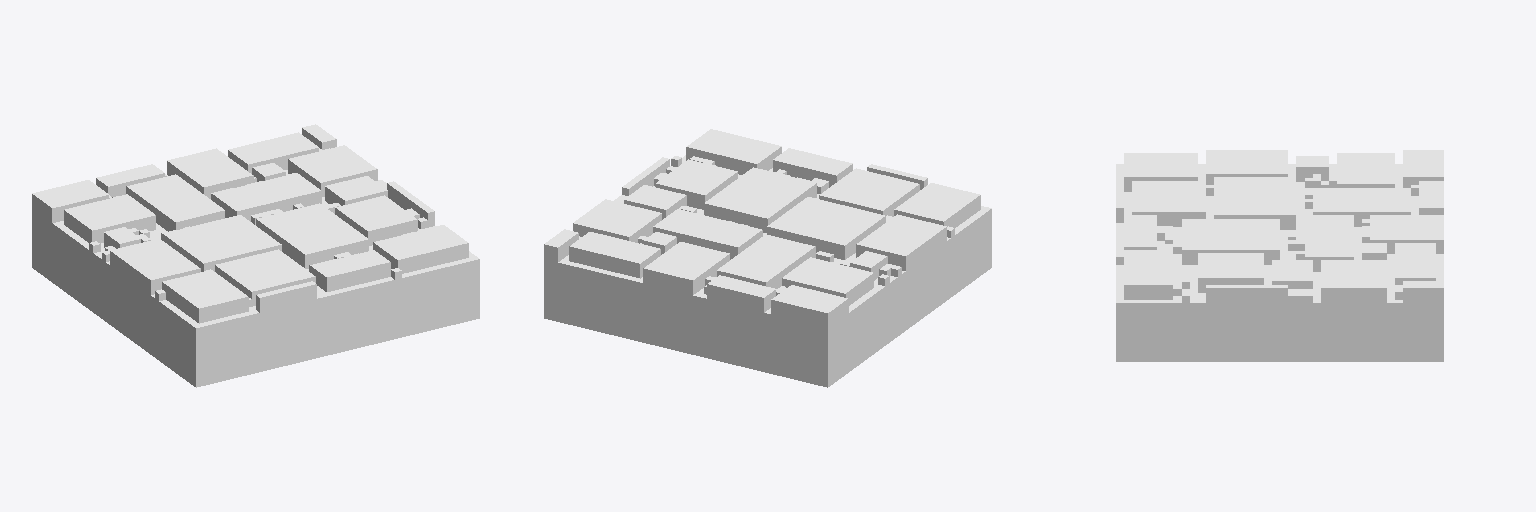
File: Floortile.obj
3 renders of one model, left to right at view 1: azimuth 30°, elevation 25°; view 2: azimuth 150°, elevation 25°; view 3: azimuth 270°, elevation 25°, orthographic.
Visible parts, largest first — view 1: object 1; view 2: object 1; view 3: object 1.
Part boxes in pixels (x1,y1,x2,y2): object 1: (32,124,479,387); object 1: (544,129,991,387); object 1: (1116,150,1443,361).
Size of the model in its own units: 4 by 1 by 4.